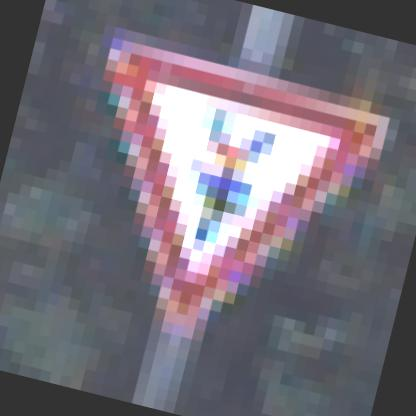crosswalk: (26, 20, 407, 358)
